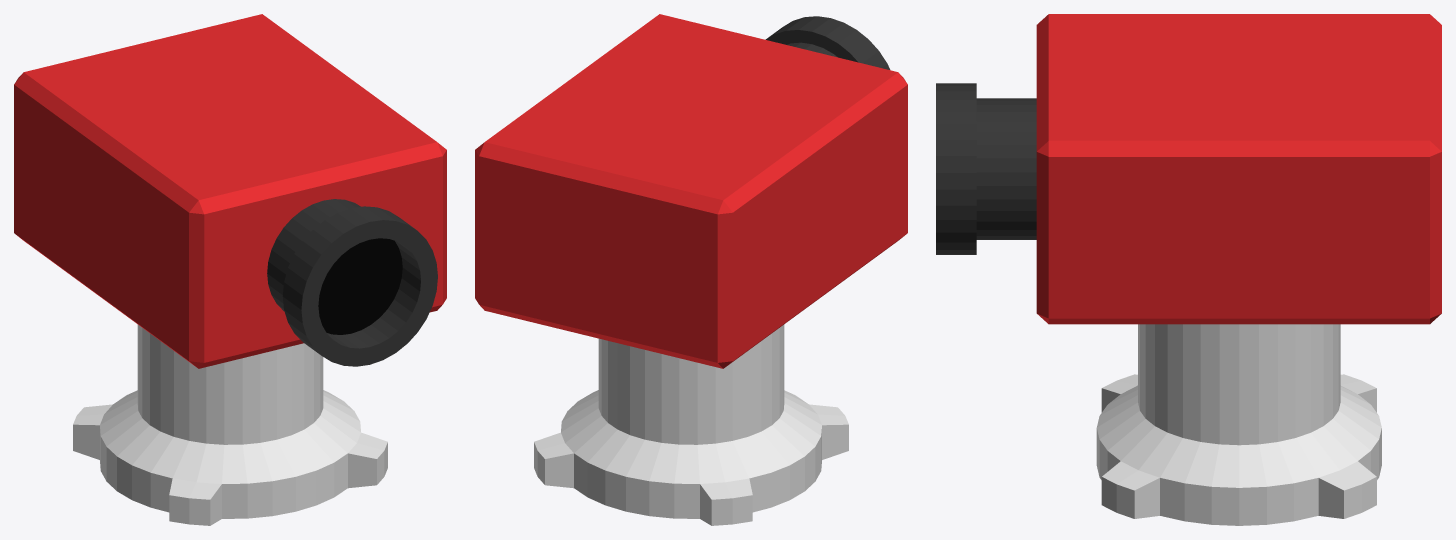
Rendered from turret.fbx.
3 renders of one model, left to right at view 1: azimuth 30°, elevation 25°; view 2: azimuth 150°, elevation 25°; view 3: azimuth 270°, elevation 25°, orthographic. The views are drawn at different scales.
Visible parts, largest first — view 1: Head, Base, Muzzle; view 2: Head, Base, Muzzle; view 3: Head, Base, Muzzle.
Part boxes in pixels (<box>): Head: <box>14,14,446,368</box>; Base: <box>73,324,387,525</box>; Muzzle: <box>267,199,437,366</box>; Head: <box>475,14,907,368</box>; Base: <box>534,324,848,525</box>; Muzzle: <box>765,16,890,69</box>; Head: <box>1036,14,1441,324</box>; Base: <box>1096,324,1381,525</box>; Muzzle: <box>936,83,1036,254</box>.
Bounding box in the file's own units: 160 × 211 × 250.
